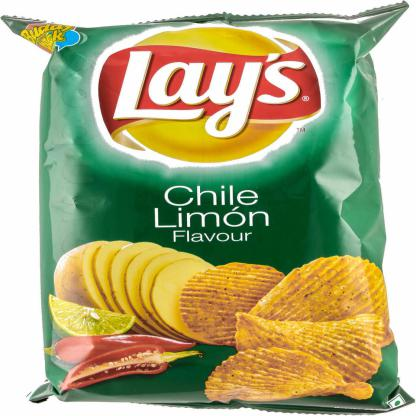chile_limon: (3, 0, 410, 415)
